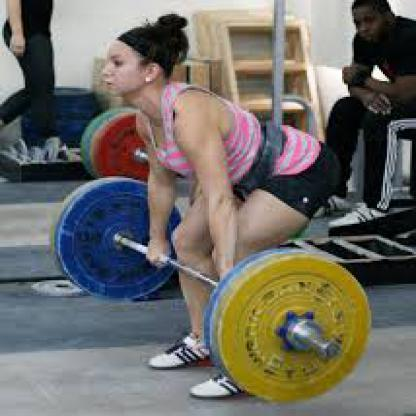barbell: (52, 174, 372, 404)
